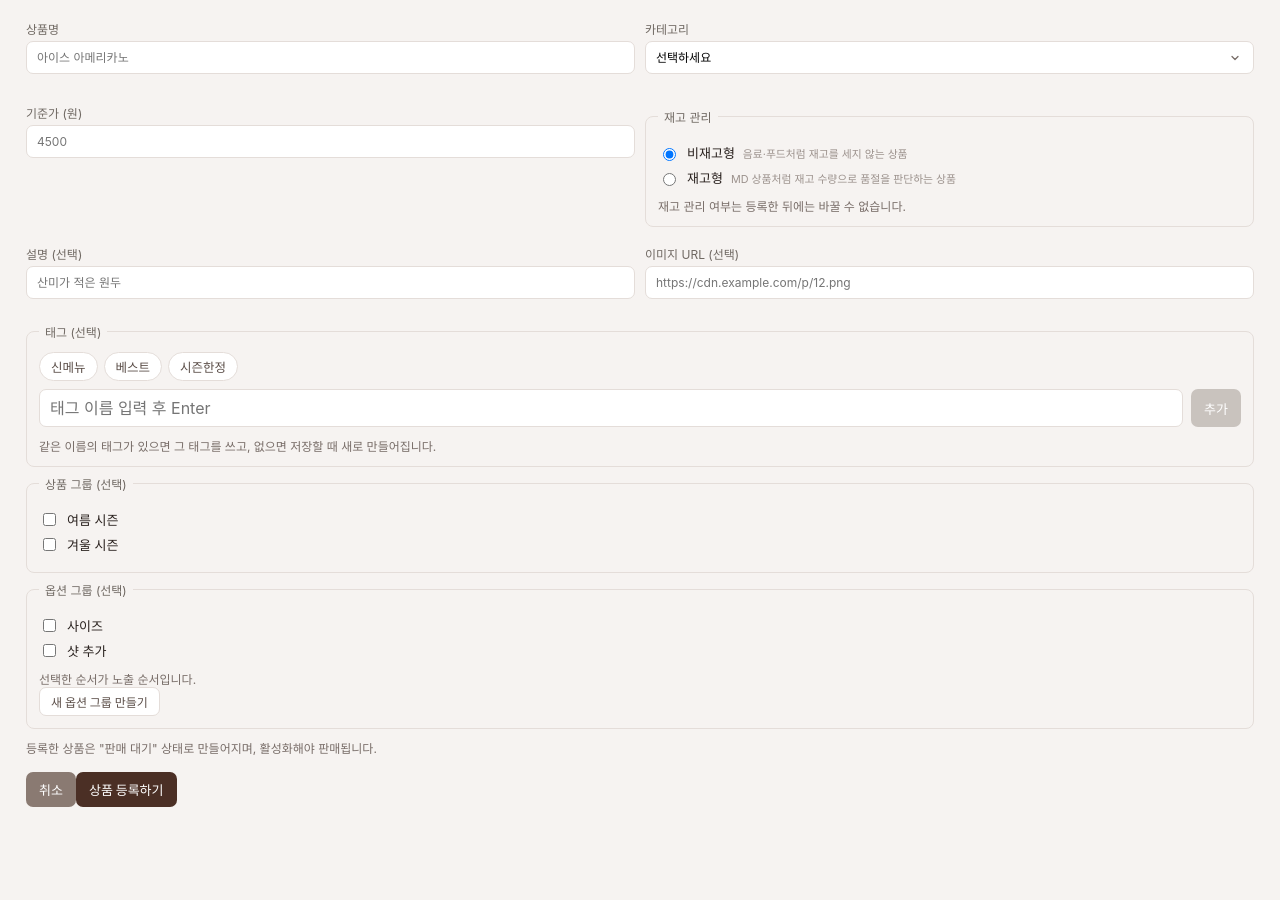
Test: ProductForm 등록 › 옵션 그룹은 선택한 순서가 노출 순서이며 몇 번째인지 보여준다
Click the checkbox labelled "샷 추가". click: (50, 650)
box: [43,644,56,657]
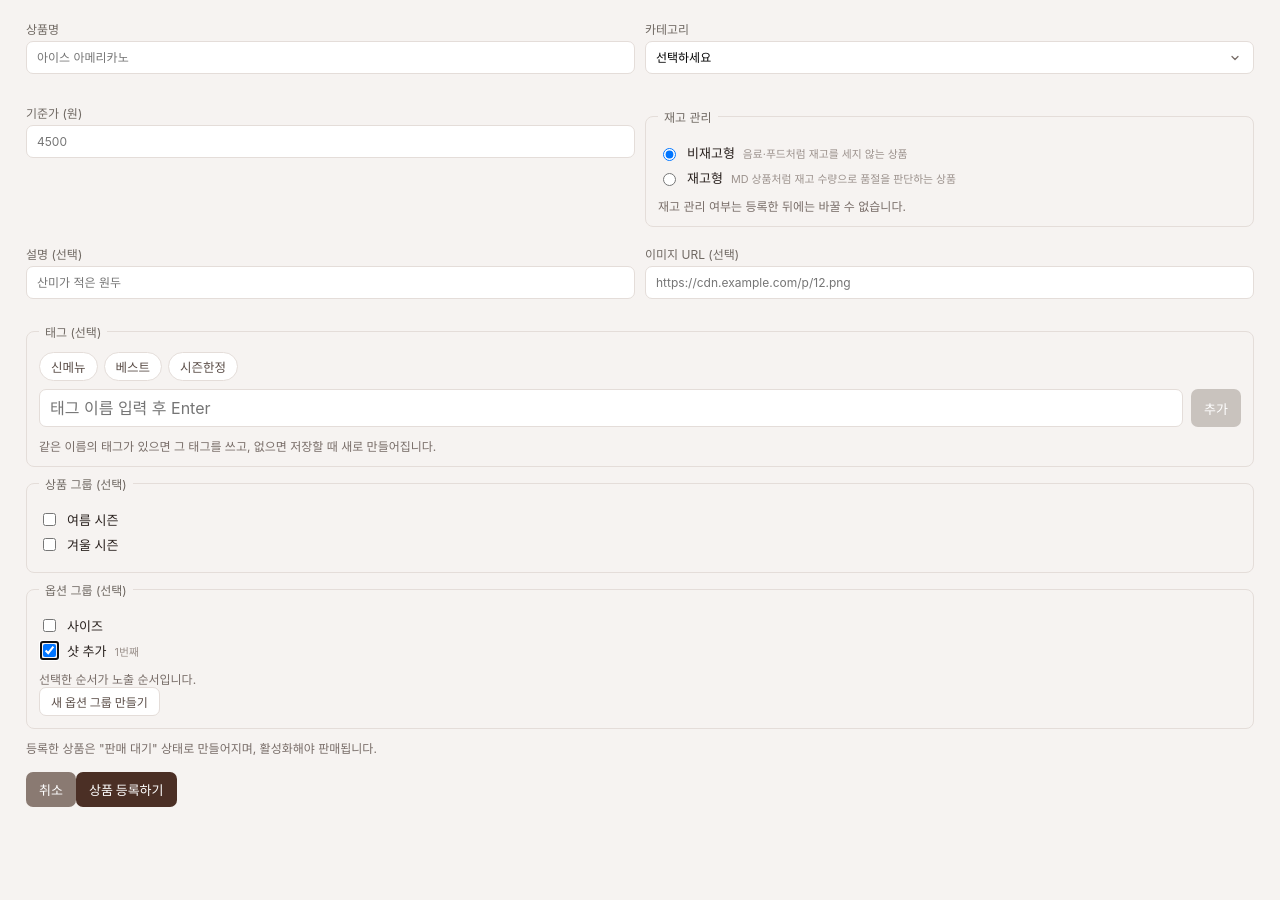
Click the checkbox labelled "사이즈". click: (50, 626)
box: [43,619,56,632]
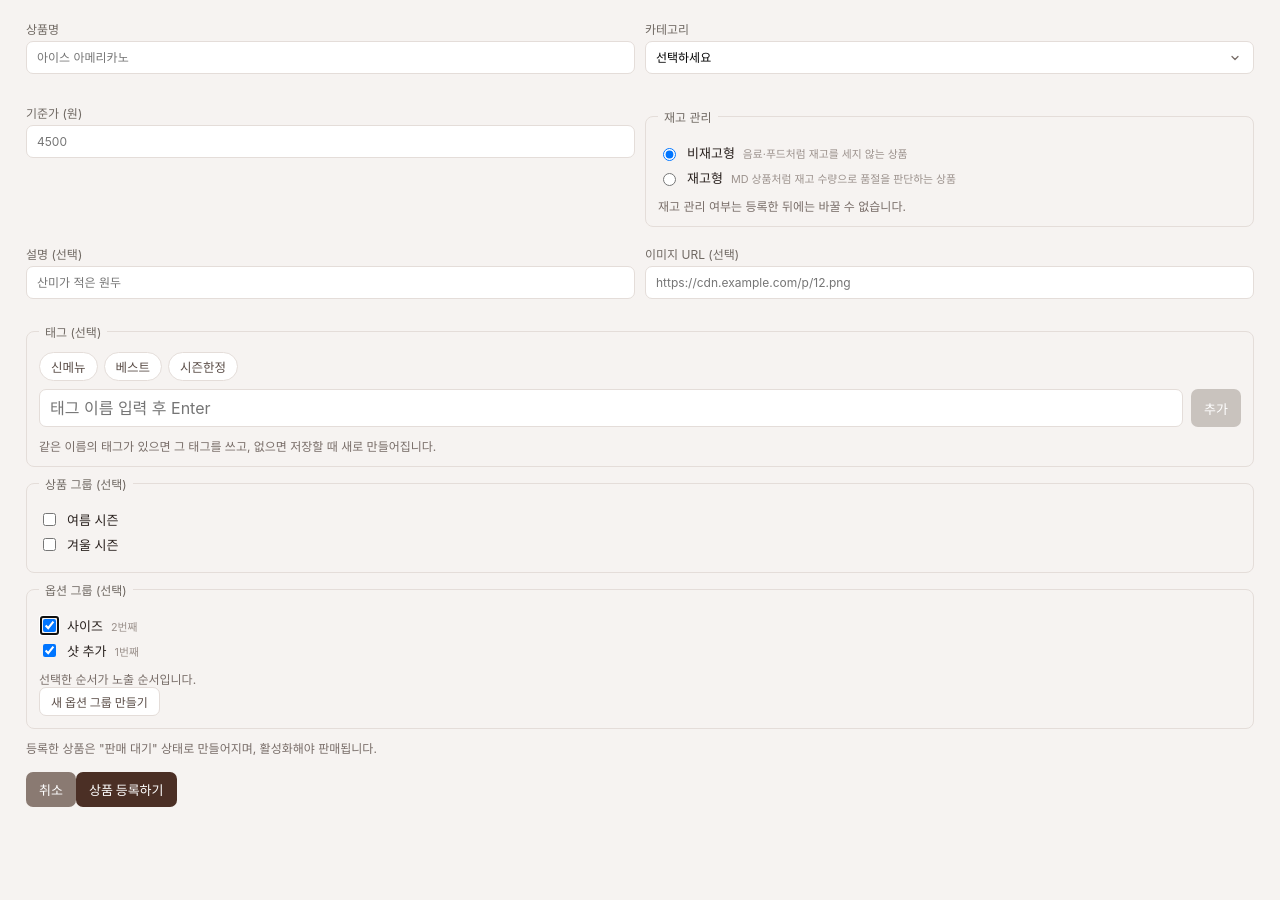
Expected: the text "1번째" is shown, [114,642,139,658]
Expected: the text "2번째" is shown, [111,618,137,634]
